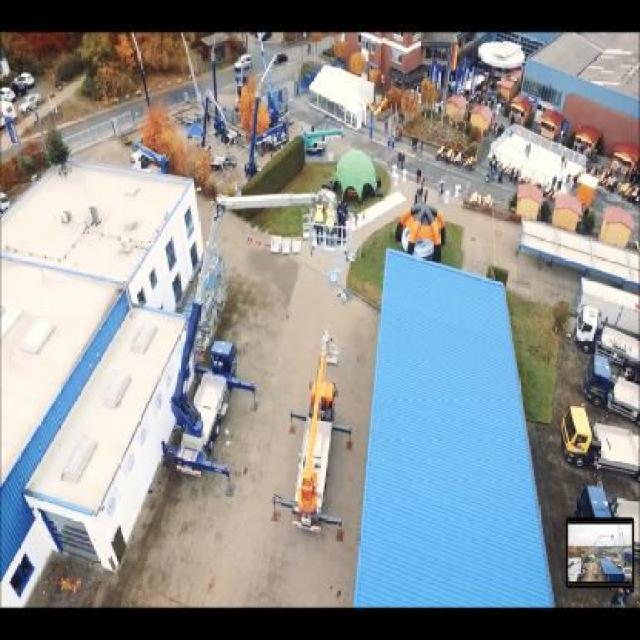Mobile Crane: (159, 182, 353, 492), (269, 324, 356, 541)
